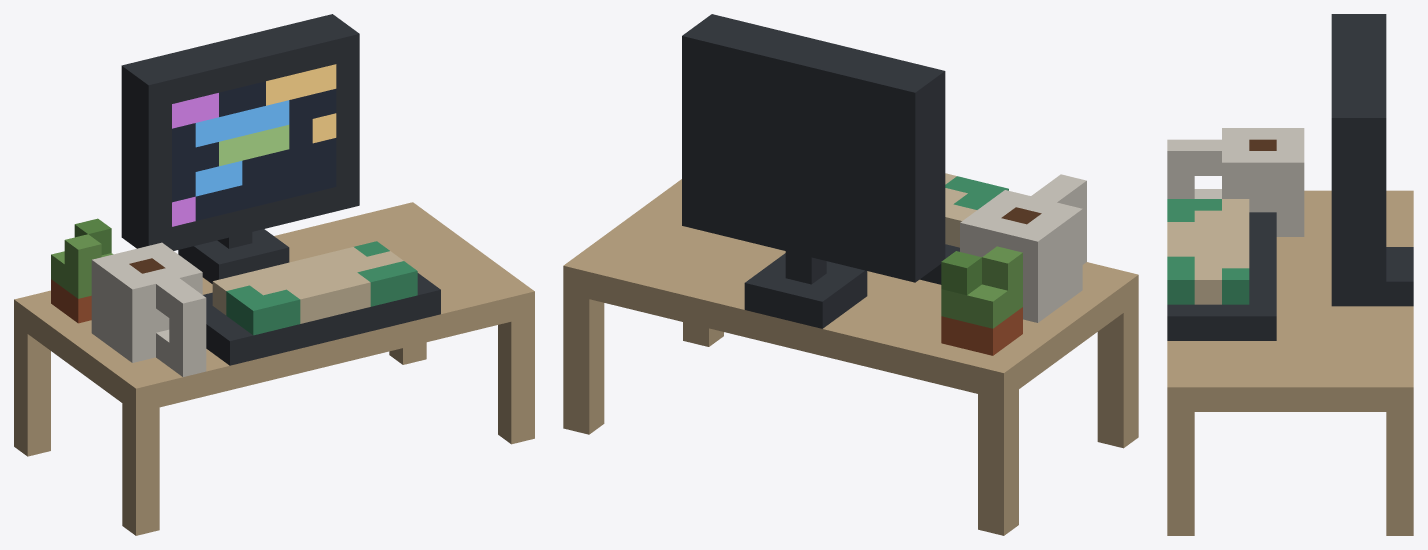
File: desk.glb
The picture shows the model from 3 angles, left to right: view 1: azimuth 30°, elevation 25°; view 2: azimuth 150°, elevation 25°; view 3: azimuth 270°, elevation 25°; orthographic projection. The views are drawn at different scales.
Visible parts, largest first — view 1: body, screen; view 2: body; view 3: body.
Boxes of the visible parts, left/top/right/bottom form: body: left=14, top=14, right=534, bottom=535; screen: left=172, top=64, right=336, bottom=226; body: left=563, top=14, right=1138, bottom=535; body: left=1167, top=14, right=1413, bottom=535.
Bounding box in the file's own units: 1.7 × 1.5 × 0.9.
